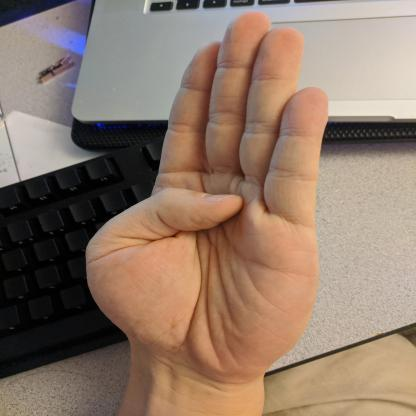B: (71, 3, 344, 392)
